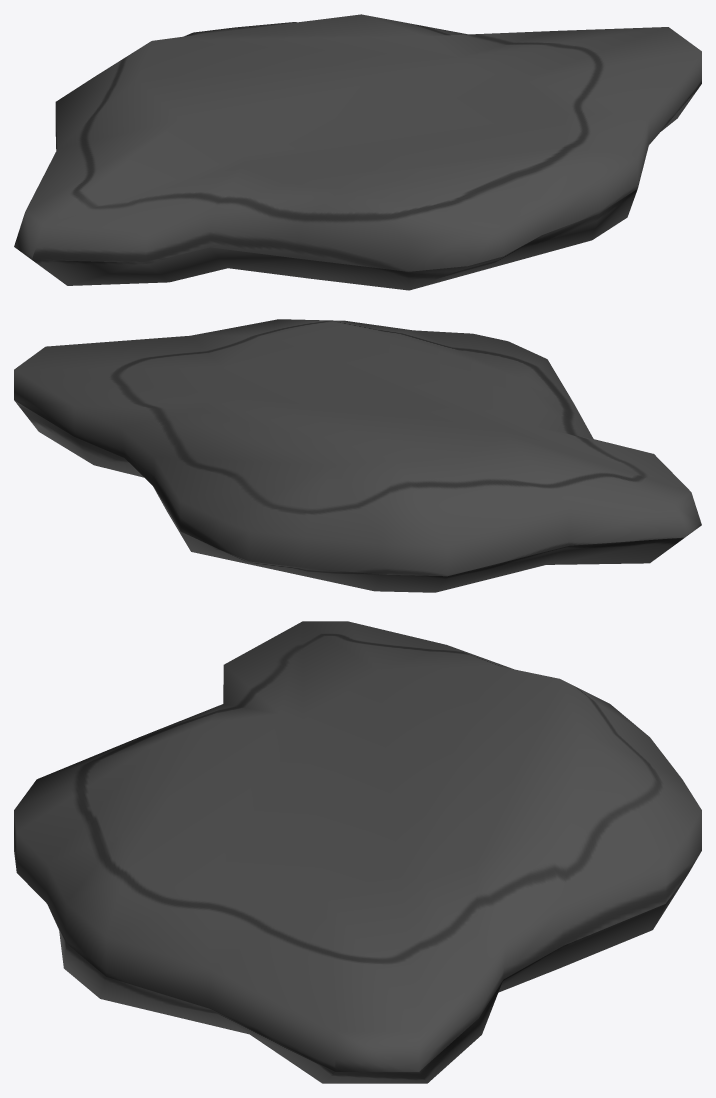
File: Mesh_Top_Canyon_1_OE.fbx
3 renders of one model, top to bottom at view 1: azimuth 30°, elevation 25°; view 2: azimuth 150°, elevation 25°; view 3: azimuth 270°, elevation 25°, orthographic. The views are drawn at different scales.
Parts seen in each view (by area): view 1: Canyontop1; view 2: Canyontop1; view 3: Canyontop1.
Boxes of the visible parts, x1=… form: Canyontop1: x1=14, y1=14, x2=701, y2=290; Canyontop1: x1=14, y1=319, x2=701, y2=592; Canyontop1: x1=14, y1=621, x2=701, y2=1083.
Bounding box in the file's own units: 3253 × 564 × 2268.
